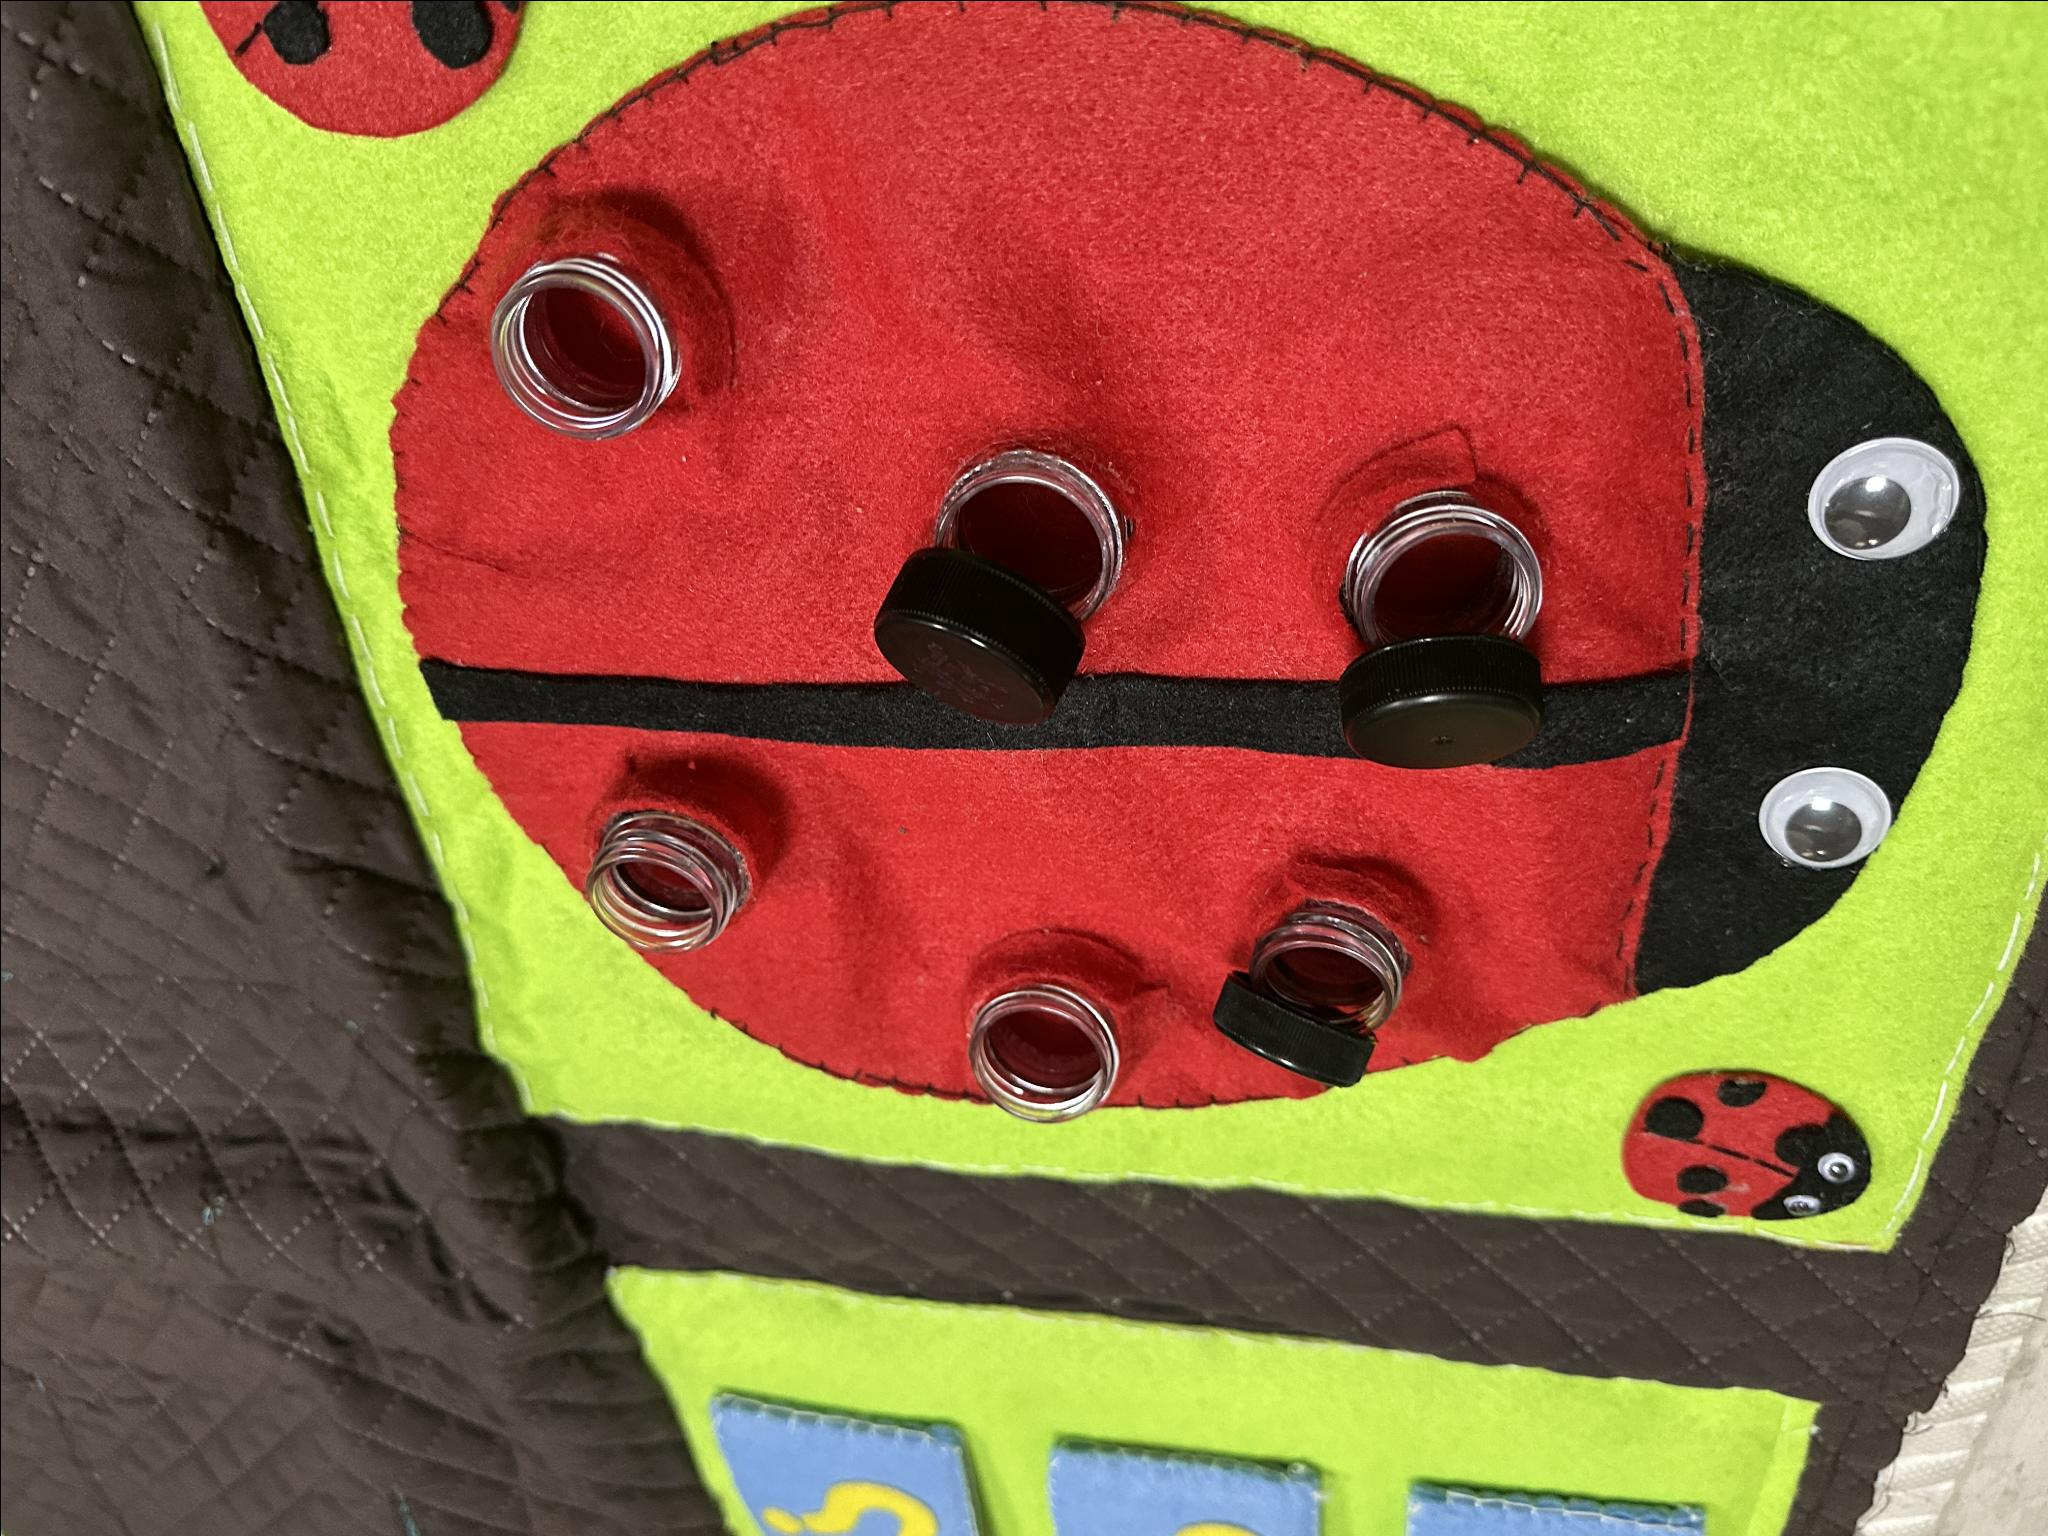cap_ng: (851, 410, 1159, 744), (1308, 437, 1587, 792), (1182, 858, 1448, 1123)
